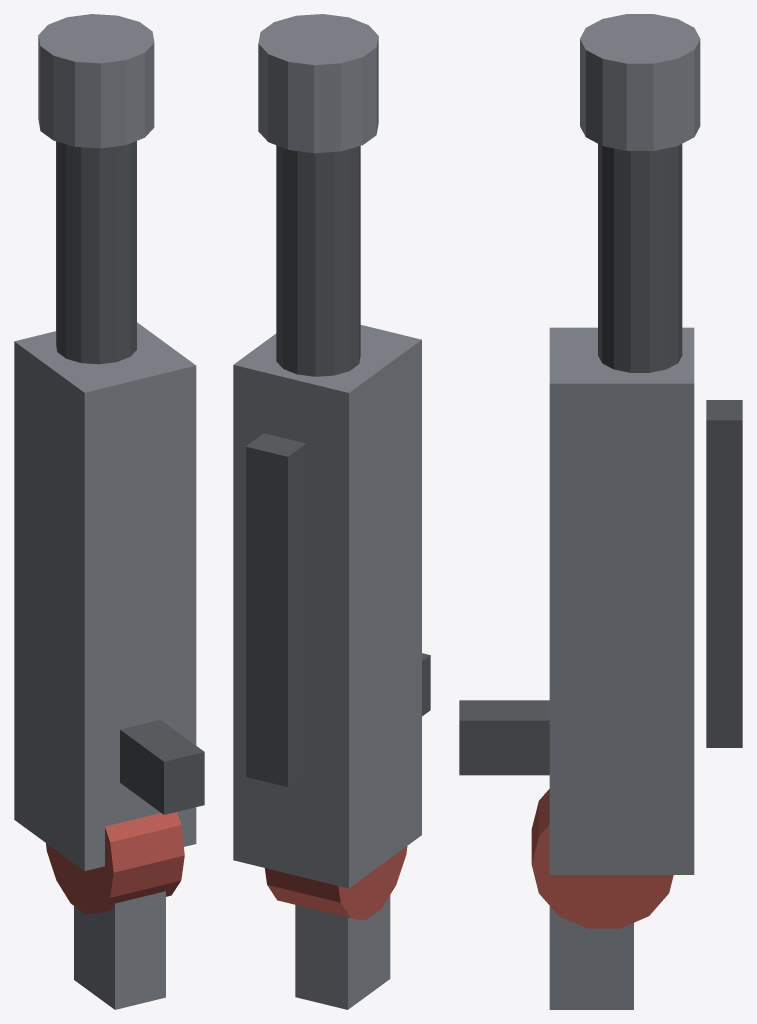
File: weapon-siegeplow.glb
The picture shows the model from 3 angles, left to right: view 1: azimuth 30°, elevation 25°; view 2: azimuth 150°, elevation 25°; view 3: azimuth 270°, elevation 25°; orthographic projection. The views are drawn at different scales.
Parts seen in each view (by area): view 1: body, barrel, muzzle, stock, drum, grip; view 2: body, rail, barrel, muzzle, stock, drum, grip; view 3: body, barrel, muzzle, rail, stock, drum, grip.
Part boxes in pixels (x1=…): body: x1=14, y1=322, x2=196, y2=871; barrel: x1=56, y1=141, x2=136, y2=364; muzzle: x1=38, y1=14, x2=154, y2=148; stock: x1=74, y1=891, x2=165, y2=1009; drum: x1=46, y1=812, x2=184, y2=914; grip: x1=120, y1=720, x2=204, y2=814; body: x1=233, y1=325, x2=421, y2=888; rail: x1=246, y1=433, x2=305, y2=786; barrel: x1=276, y1=145, x2=360, y2=376; muzzle: x1=258, y1=14, x2=378, y2=153; stock: x1=295, y1=895, x2=390, y2=1009; drum: x1=264, y1=846, x2=407, y2=920; grip: x1=422, y1=653, x2=430, y2=716; body: x1=549, y1=327, x2=694, y2=874; barrel: x1=598, y1=144, x2=682, y2=372; muzzle: x1=580, y1=14, x2=700, y2=150; rail: x1=706, y1=400, x2=742, y2=747; stock: x1=549, y1=906, x2=633, y2=1009; drum: x1=531, y1=789, x2=673, y2=928; grip: x1=459, y1=700, x2=549, y2=775.
Size of the model in its own units: 0.22 by 1.75 by 0.47.
